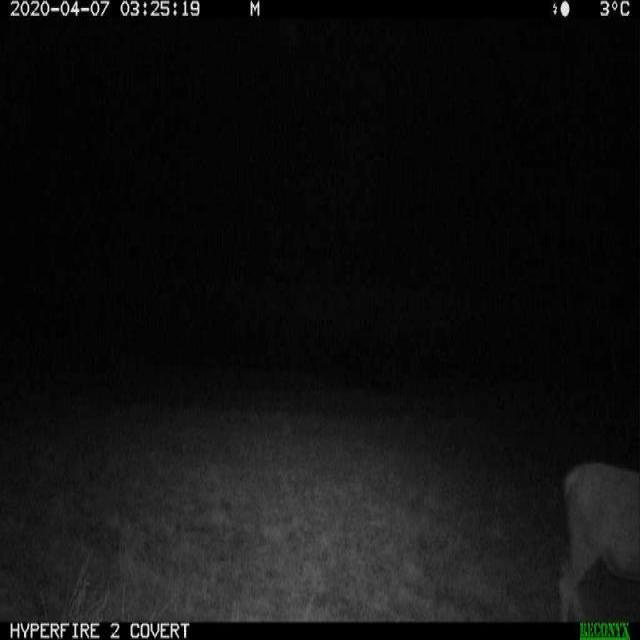deer: (539, 452, 639, 625)
